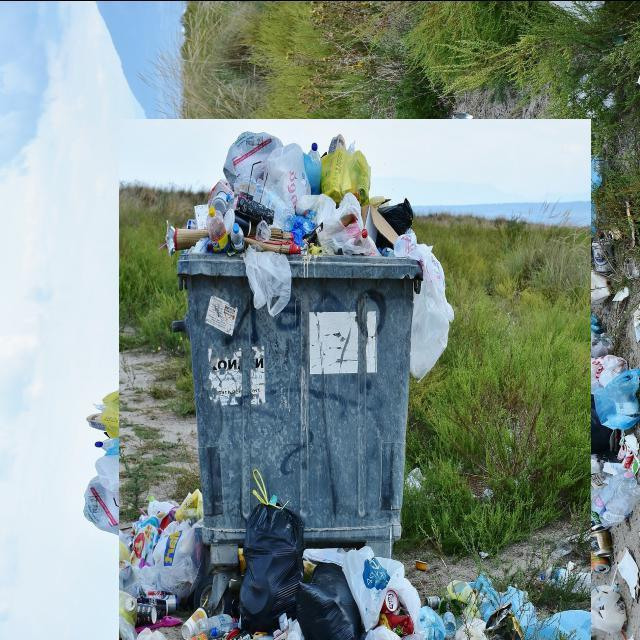Trashbag: (235, 507, 307, 622), (297, 566, 368, 640)
